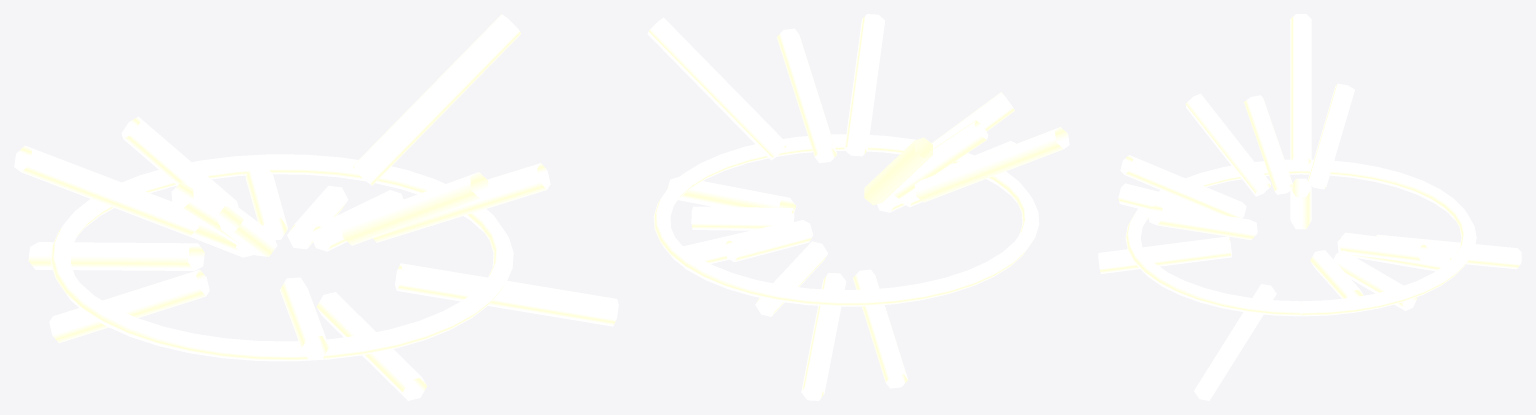
File: damage.nature.glb
The picture shows the model from 3 angles, left to right: view 1: azimuth 30°, elevation 25°; view 2: azimuth 150°, elevation 25°; view 3: azimuth 270°, elevation 25°; orthographic projection. The views are drawn at different scales.
Parts seen in each view (by area): view 1: damage.nature.sweep.017; view 2: damage.nature.sweep.017; view 3: damage.nature.sweep.017.
Part boxes in pixels (box(x1,y1,x2,y2)): damage.nature.sweep.017: box(14, 14, 618, 400); damage.nature.sweep.017: box(647, 14, 1069, 400); damage.nature.sweep.017: box(1098, 14, 1521, 400).
Size of the model in its own units: 1.54 by 0.806 by 1.39.
